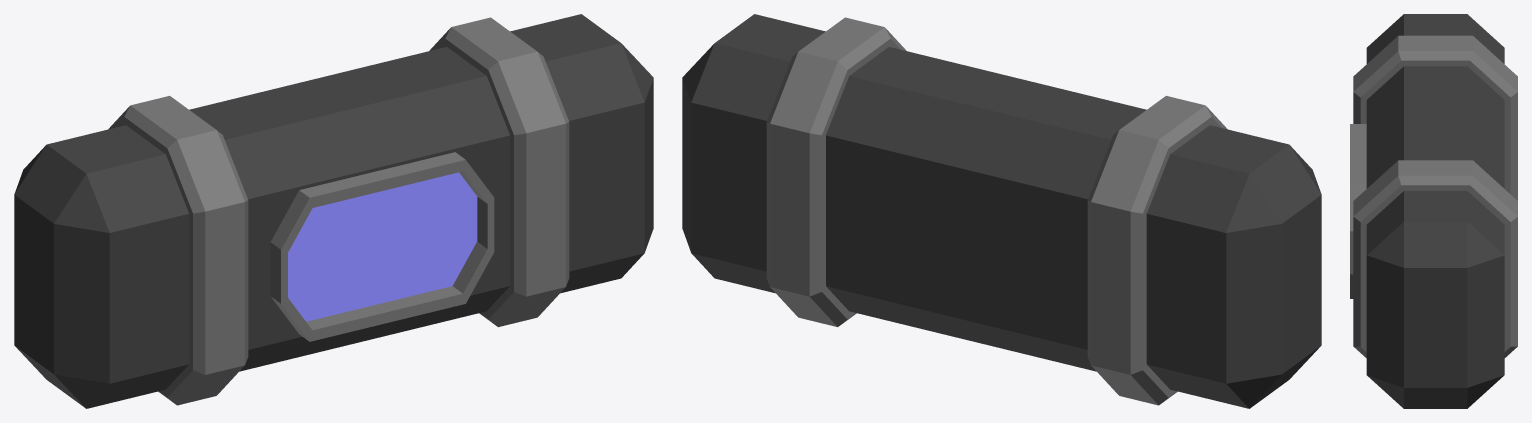
File: SciFiWallGreeble5.glb
The picture shows the model from 3 angles, left to right: view 1: azimuth 30°, elevation 25°; view 2: azimuth 150°, elevation 25°; view 3: azimuth 270°, elevation 25°; orthographic projection. The views are drawn at different scales.
Parts seen in each view (by area): view 1: Lam 2.009; view 2: Lam 2.009; view 3: Lam 2.009.
Part boxes in pixels (left/top/right/bottom): Lam 2.009: left=14, top=14, right=653, bottom=408; Lam 2.009: left=682, top=14, right=1321, bottom=408; Lam 2.009: left=1350, top=14, right=1517, bottom=408.
Bounding box in the file's own units: 1.05 × 0.446 × 0.3208.
